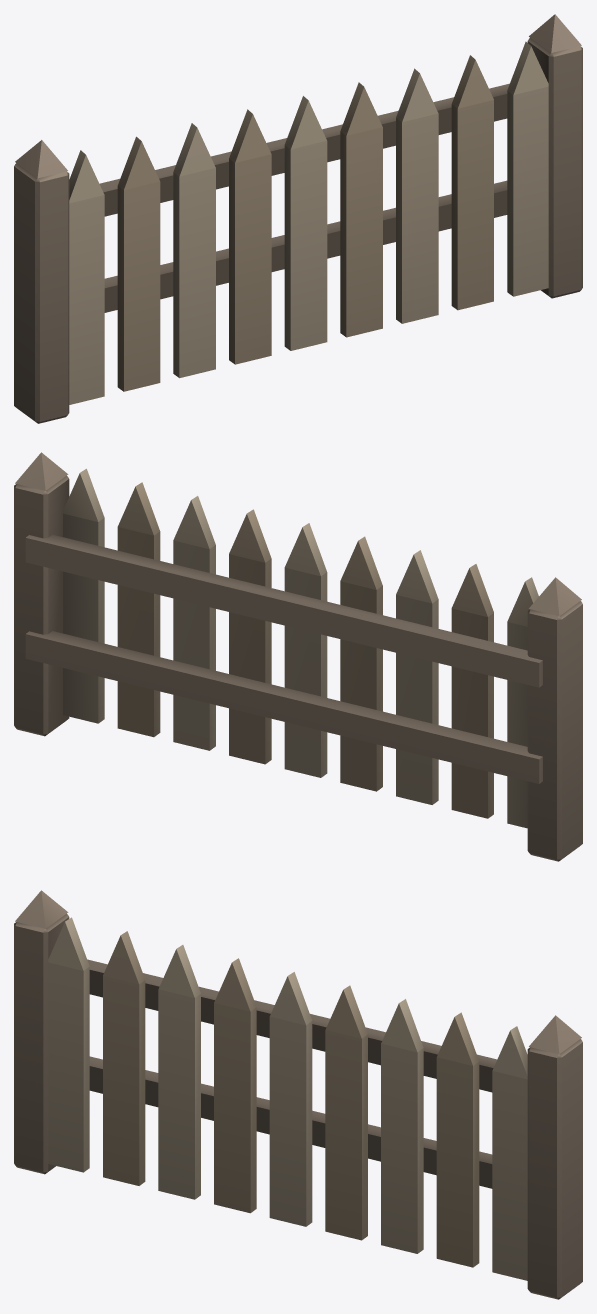
The model's file is fence.lod1.glb.
3 renders of one model, top to bottom at view 1: azimuth 30°, elevation 25°; view 2: azimuth 150°, elevation 25°; view 3: azimuth 330°, elevation 25°, orthographic.
Bounding box in the file's own units: 2.56 × 1.22 × 0.23.
